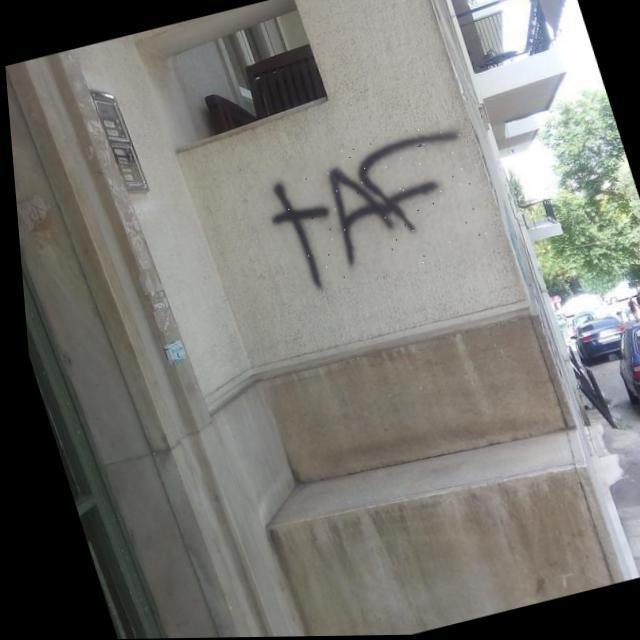-: (251, 120, 496, 297)
